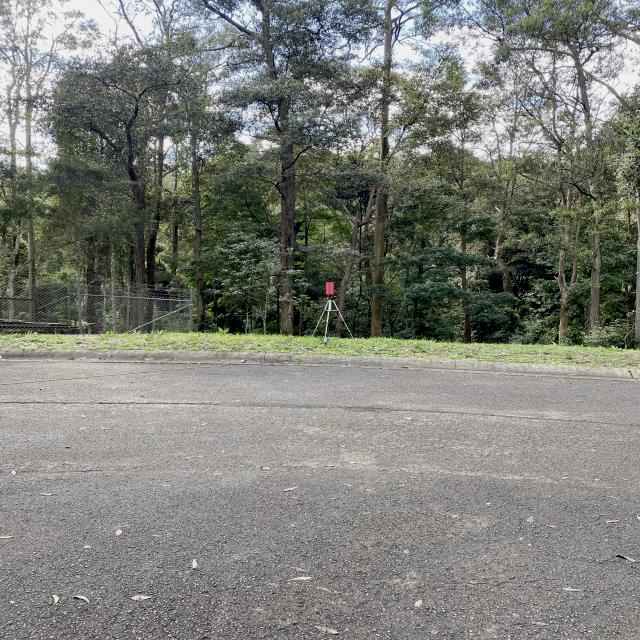matrix: (324, 282, 334, 295)
